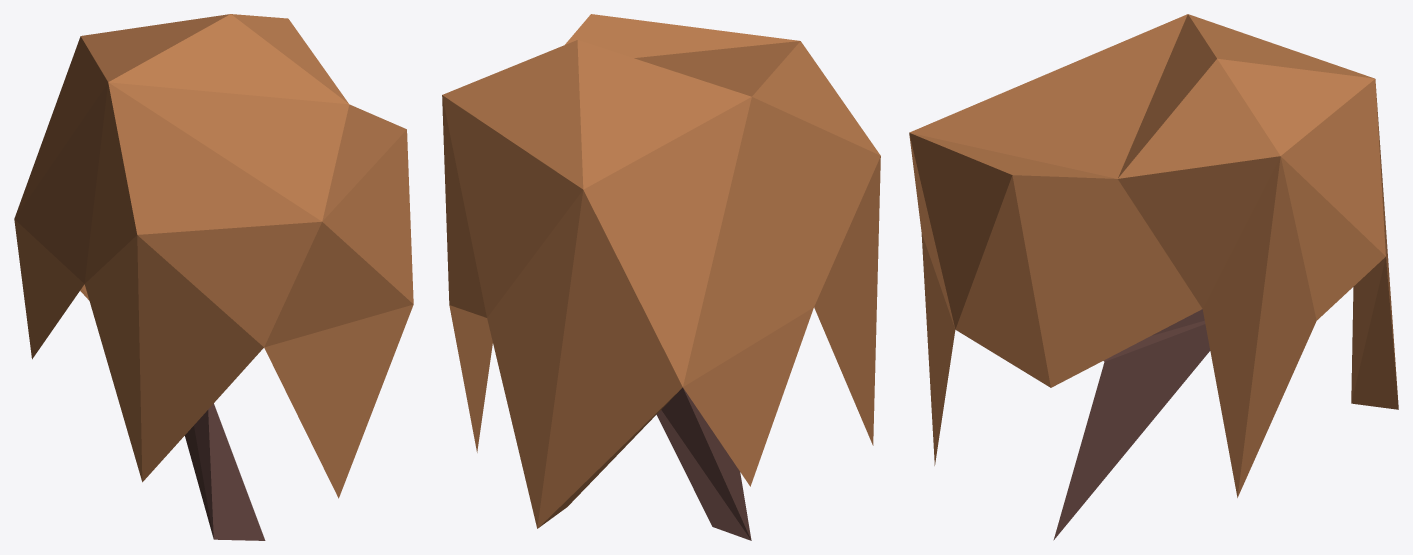
Rendered from Willow_Autumn_4.lod3.glb.
3 views of the same model, side by side, from view 1: azimuth 30°, elevation 25°; view 2: azimuth 150°, elevation 25°; view 3: azimuth 270°, elevation 25° (orthographic). The views are drawn at different scales.
Parts seen in each view (by area): view 1: Willow_Autumn_4; view 2: Willow_Autumn_4; view 3: Willow_Autumn_4.
Part boxes in pixels (left/top/right/bottom): Willow_Autumn_4: left=14, top=14, right=413, bottom=540; Willow_Autumn_4: left=442, top=14, right=880, bottom=540; Willow_Autumn_4: left=909, top=14, right=1398, bottom=540.
Size of the model in its own units: 2.02 by 3.39 by 2.99.
